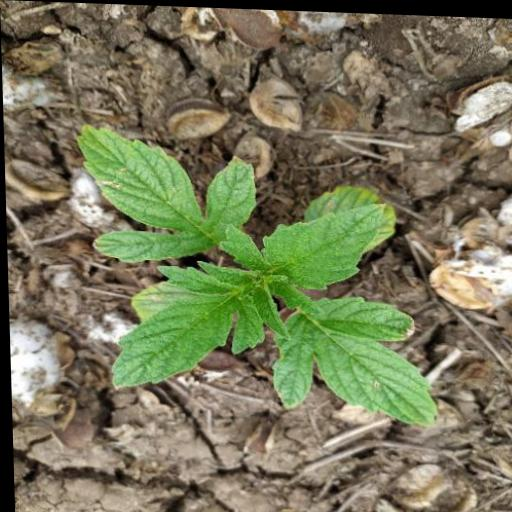crop: (60, 117, 457, 430)
